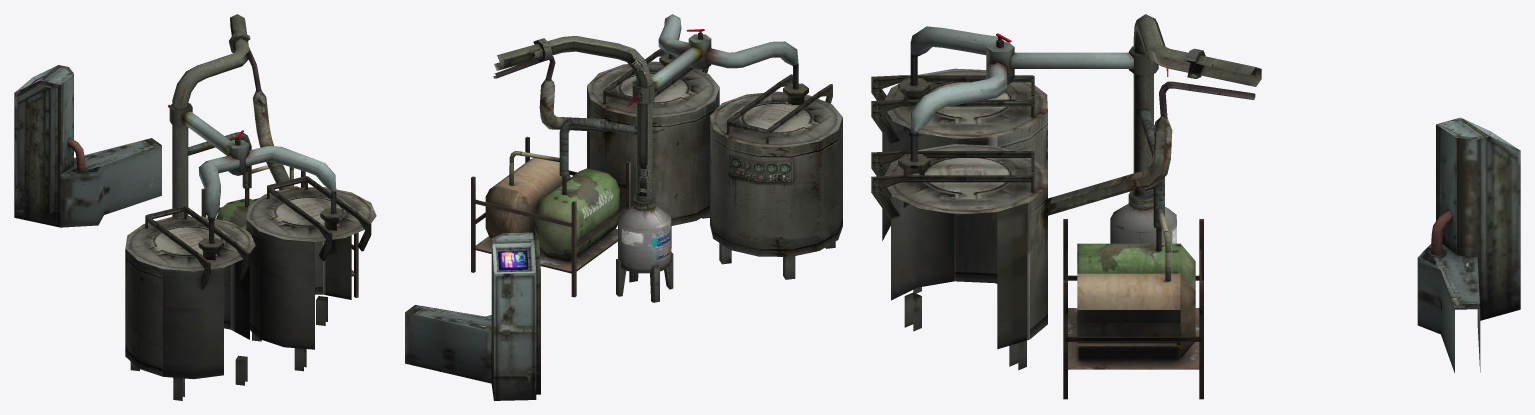
The model's file is hev_machine.glb.
The picture shows the model from 3 angles, left to right: view 1: azimuth 30°, elevation 25°; view 2: azimuth 150°, elevation 25°; view 3: azimuth 270°, elevation 25°; orthographic projection. The views are drawn at different scales.
Visible parts, largest first — view 1: hev_machine; view 2: hev_machine; view 3: hev_machine.
Part boxes in pixels (x1=…): hev_machine: x1=14, y1=14, x2=376, y2=400; hev_machine: x1=405, y1=14, x2=842, y2=400; hev_machine: x1=871, y1=14, x2=1520, y2=399.
Size of the model in its own units: 1.69 by 1.48 by 2.82.
1 material, 1 textured.
